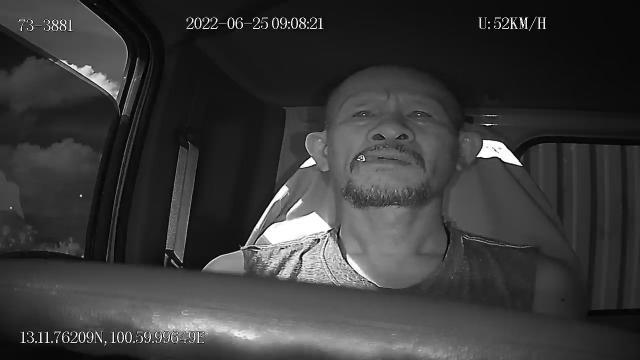SafeDriving: (344, 100, 384, 127), (401, 100, 438, 128)
Smoking: (356, 152, 380, 164)
